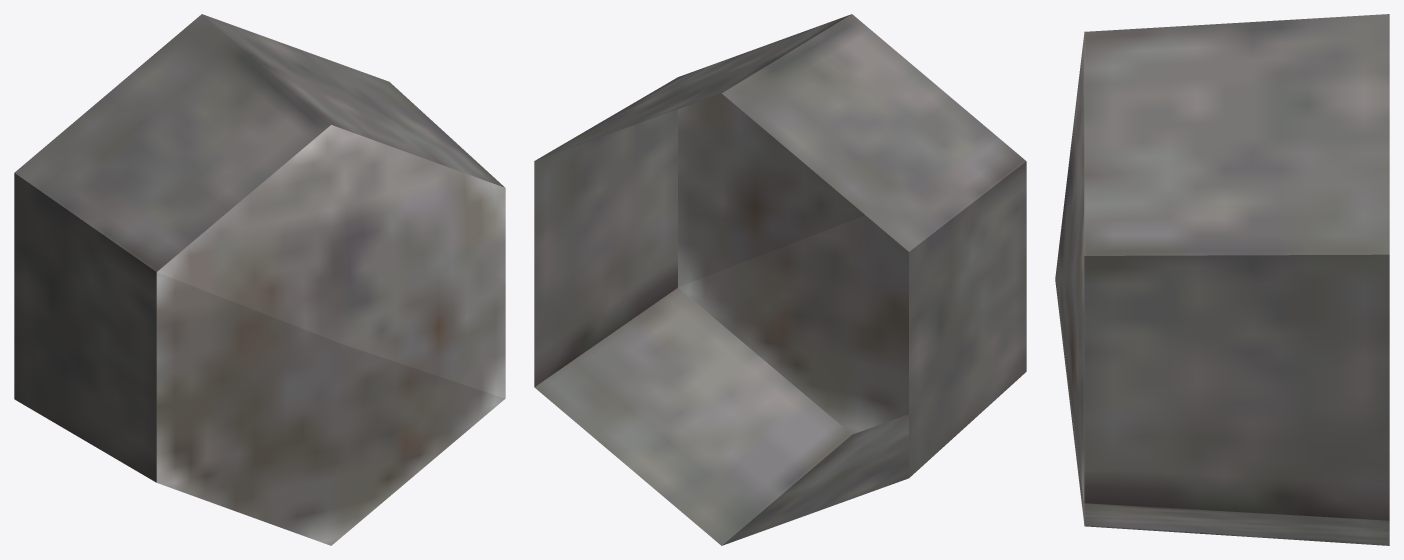
The model's file is p_rus_angle_plate_bolt_LOD2.obj.
3 views of the same model, side by side, from view 1: azimuth 30°, elevation 25°; view 2: azimuth 150°, elevation 25°; view 3: azimuth 270°, elevation 25° (orthographic). The views are drawn at different scales.
Visible parts, largest first — view 1: mtl_p_rus_angle_plate; view 2: mtl_p_rus_angle_plate; view 3: mtl_p_rus_angle_plate.
Part boxes in pixels (left/top/right/bottom): mtl_p_rus_angle_plate: left=14, top=14, right=505, bottom=545; mtl_p_rus_angle_plate: left=534, top=14, right=1026, bottom=545; mtl_p_rus_angle_plate: left=1055, top=14, right=1389, bottom=545.
Bounding box in the file's own units: 4.37 × 5.04 × 2.87.
